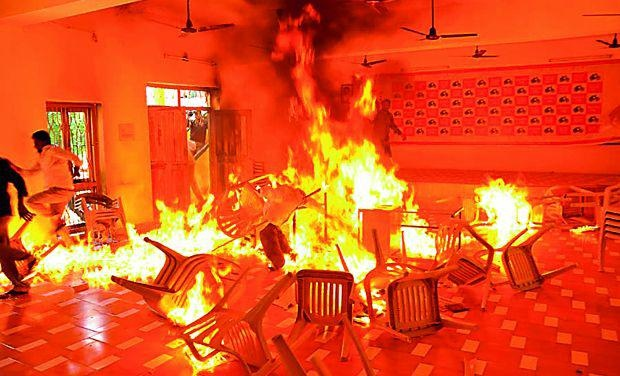fire: (471, 176, 535, 242)
